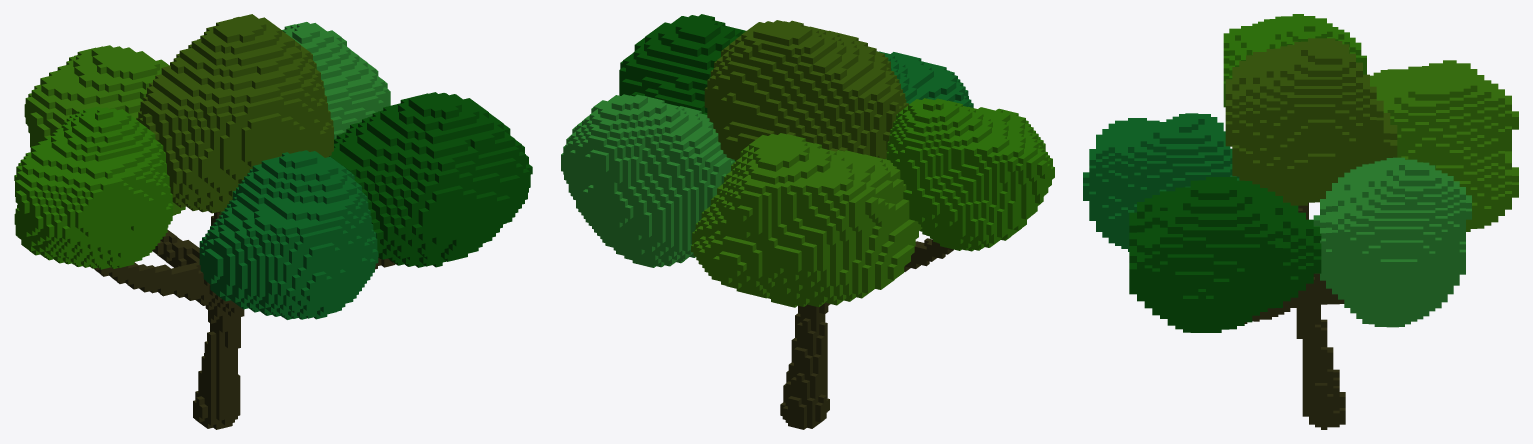
File: BigTree.fbx
3 views of the same model, side by side, from view 1: azimuth 30°, elevation 25°; view 2: azimuth 150°, elevation 25°; view 3: azimuth 270°, elevation 25° (orthographic).
Visible parts, largest first — view 1: Big Tree; view 2: Big Tree; view 3: Big Tree.
Part boxes in pixels (x1,y1,x2,y2): Big Tree: (14,14,532,429); Big Tree: (561,14,1054,429); Big Tree: (1083,14,1518,429).
Size of the model in its own units: 3.68 by 3.06 by 2.97.
